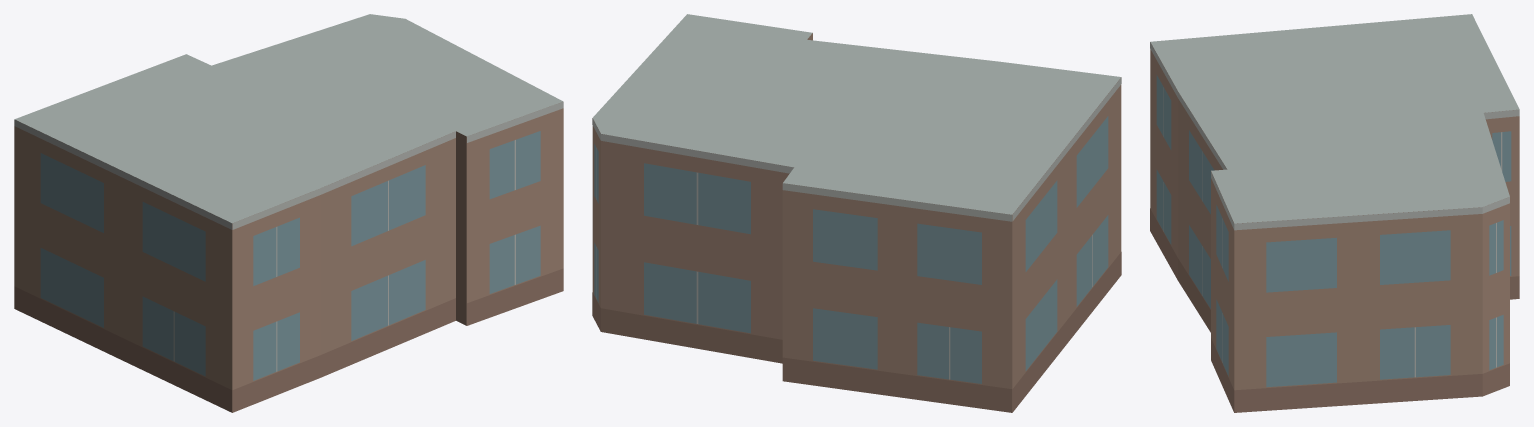
File: survey-upis-32629627.glb
The picture shows the model from 3 angles, left to right: view 1: azimuth 30°, elevation 25°; view 2: azimuth 150°, elevation 25°; view 3: azimuth 270°, elevation 25°; orthographic projection. The views are drawn at different scales.
Visible parts, largest first — view 1: survey-upis-32629627.tmp; view 2: survey-upis-32629627.tmp; view 3: survey-upis-32629627.tmp.
Part boxes in pixels (<box>): survey-upis-32629627.tmp: <box>14,14,563,412</box>; survey-upis-32629627.tmp: <box>592,14,1121,412</box>; survey-upis-32629627.tmp: <box>1150,14,1519,412</box>.
Size of the model in its own units: 16.4 by 6.9 by 12.22.
